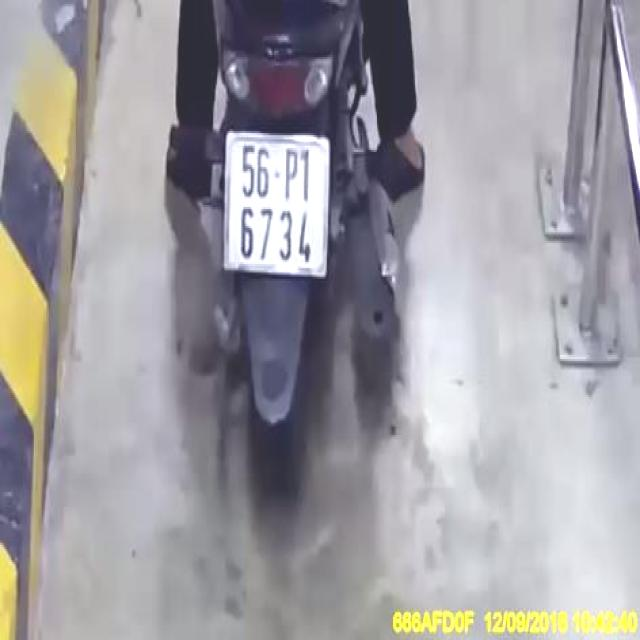1: (299, 148, 313, 205)
3: (278, 212, 294, 266)
4: (298, 212, 313, 264)
5: (240, 142, 254, 196)
6: (256, 147, 271, 199), (240, 208, 255, 256)
7: (258, 204, 274, 260)
P: (283, 146, 300, 202)
